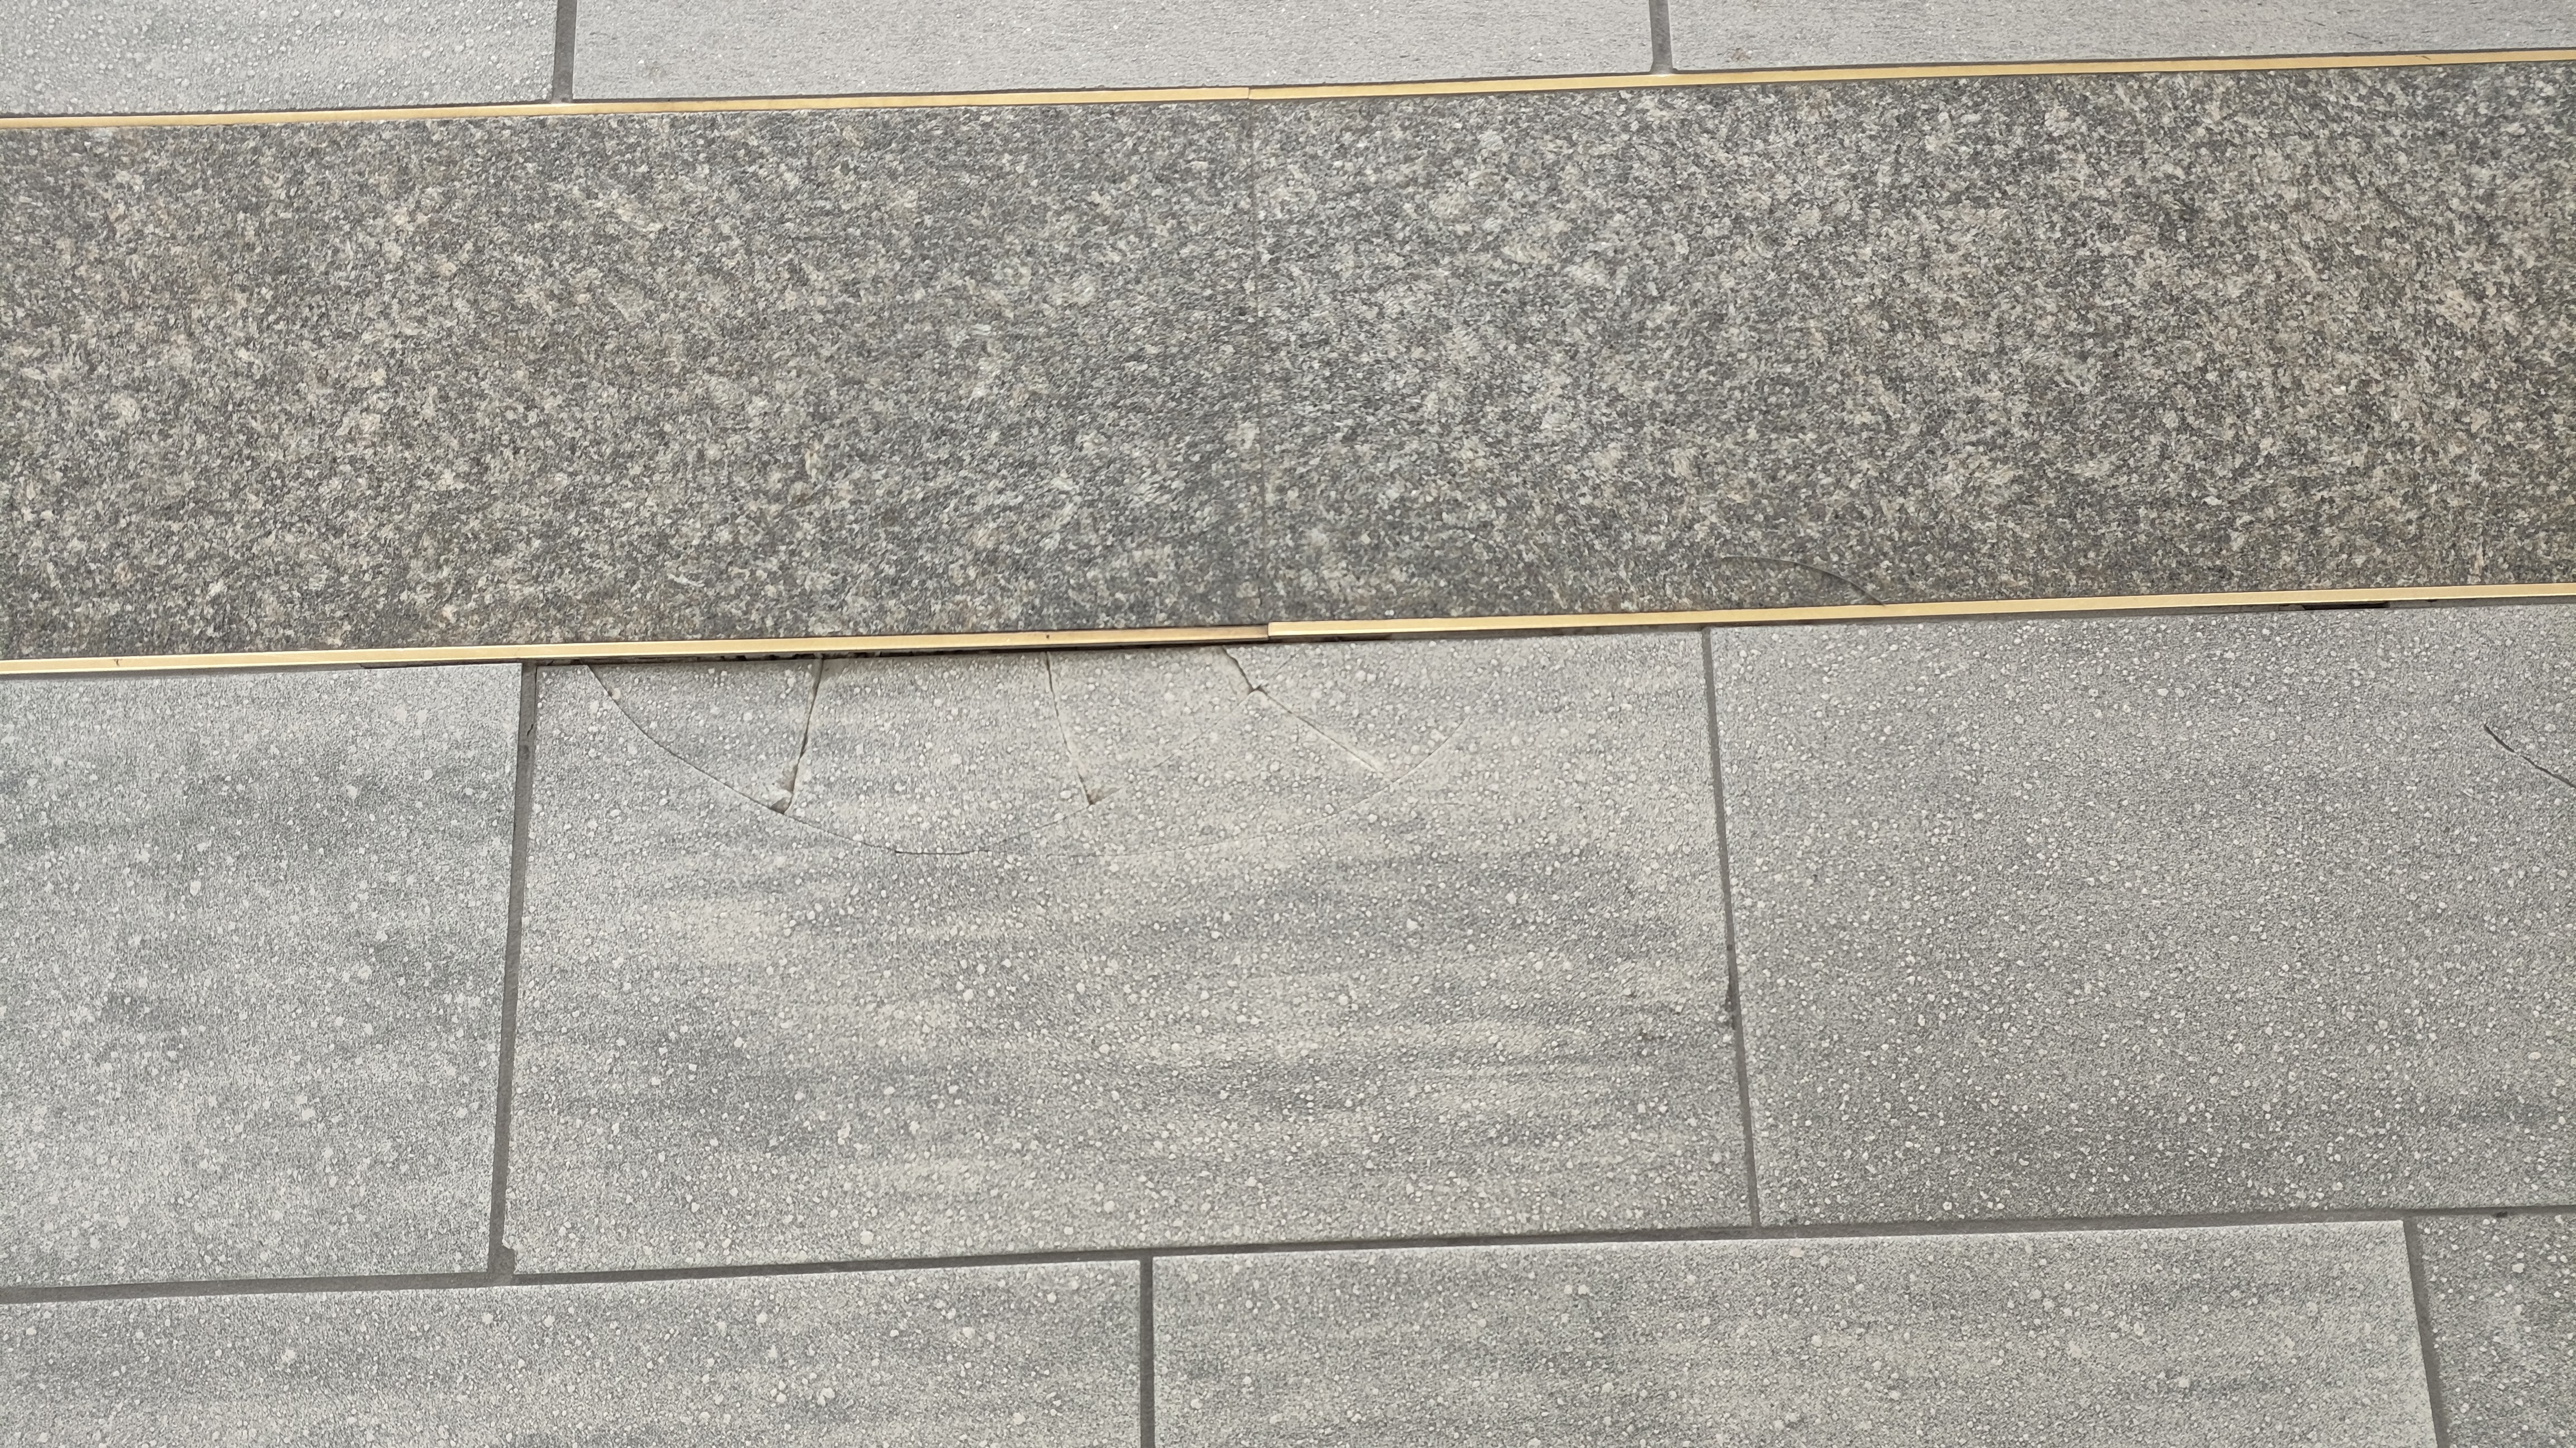Defect: (531, 654, 1491, 877), (2463, 711, 2576, 801)
